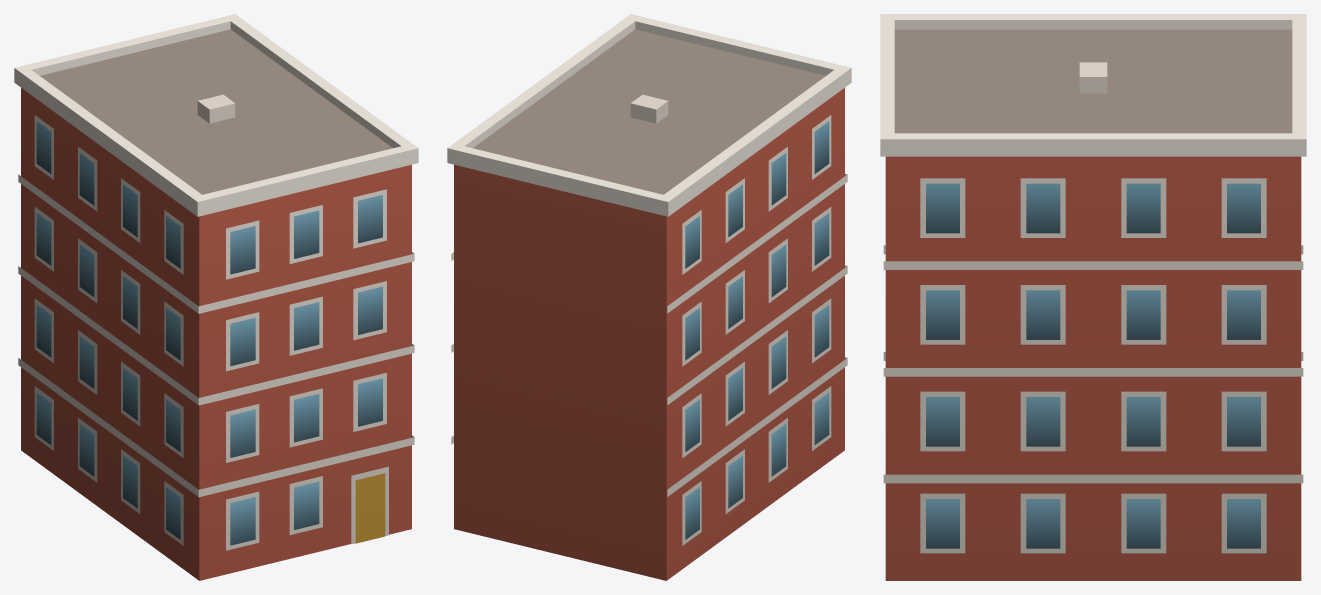
Rendered from beacon_wbb3_far.glb.
3 views of the same model, side by side, from view 1: azimuth 30°, elevation 25°; view 2: azimuth 150°, elevation 25°; view 3: azimuth 270°, elevation 25° (orthographic). The views are drawn at different scales.
Visible parts, largest first — view 1: beacon_wbb3_far; view 2: beacon_wbb3_far; view 3: beacon_wbb3_far.
Part boxes in pixels (left/top/right/bottom): beacon_wbb3_far: left=14, top=14, right=418, bottom=580; beacon_wbb3_far: left=447, top=14, right=851, bottom=580; beacon_wbb3_far: left=880, top=14, right=1306, bottom=580.
Size of the model in its own units: 8.57 by 14.37 by 12.32.
1 material, 1 textured.
